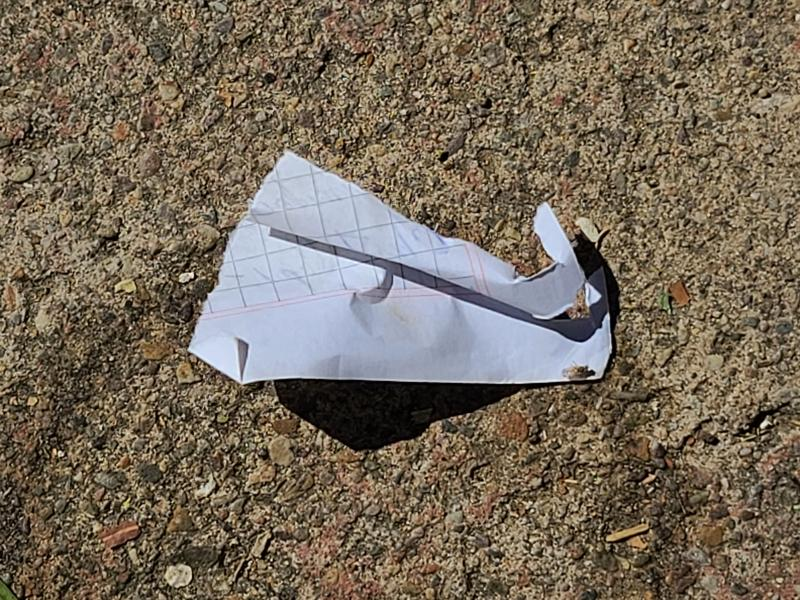papel: (187, 153, 619, 389)
